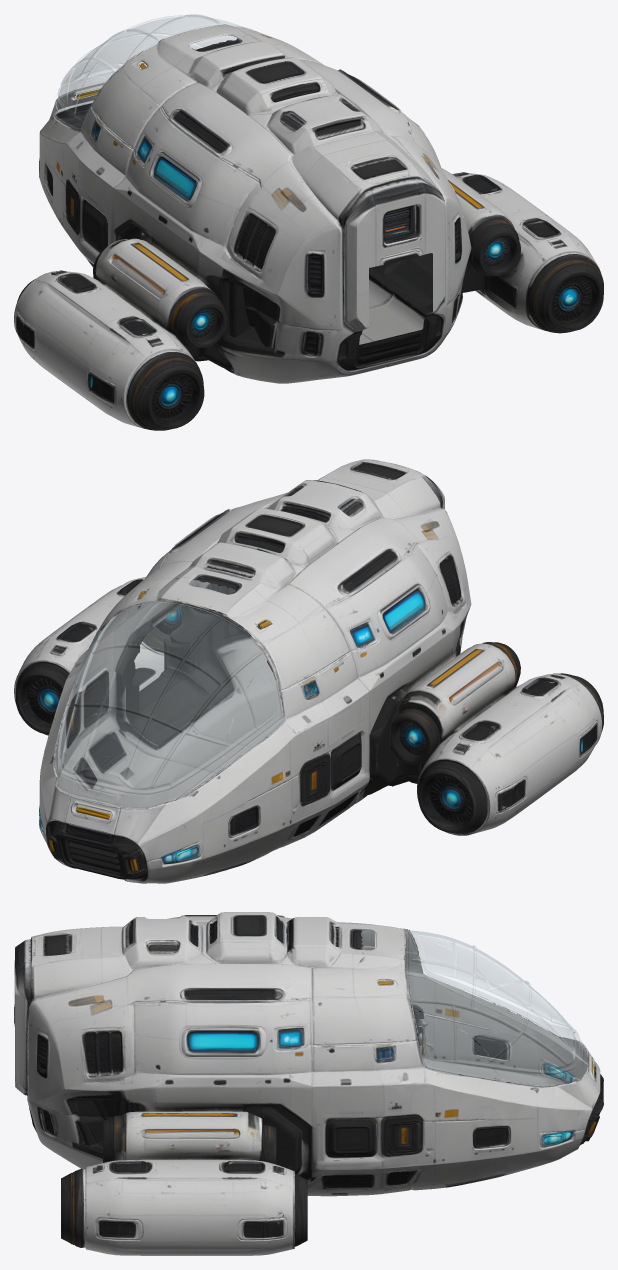
The model's file is 前挡玻璃-外观审阅.glb.
3 views of the same model, one above another, from view 1: azimuth 30°, elevation 25°; view 2: azimuth 150°, elevation 25°; view 3: azimuth 270°, elevation 25° (orthographic). The views are drawn at different scales.
Parts seen in each view (by area): view 1: Exterior_Hull_90_0, Canopy_Glass_91_0; view 2: Exterior_Hull_90_0, Canopy_Glass_91_0; view 3: Exterior_Hull_90_0, Canopy_Glass_91_0.
Boxes of the visible parts, box(x1,y1,x2,y2) form: Exterior_Hull_90_0: box(14, 24, 603, 430); Canopy_Glass_91_0: box(55, 14, 253, 118); Exterior_Hull_90_0: box(14, 459, 603, 883); Canopy_Glass_91_0: box(51, 580, 266, 822); Exterior_Hull_90_0: box(14, 912, 603, 1255); Canopy_Glass_91_0: box(361, 929, 596, 1091).
Size of the model in its own units: 14.46 by 6.95 by 16.
Materials: 2 (1 with a texture image).
